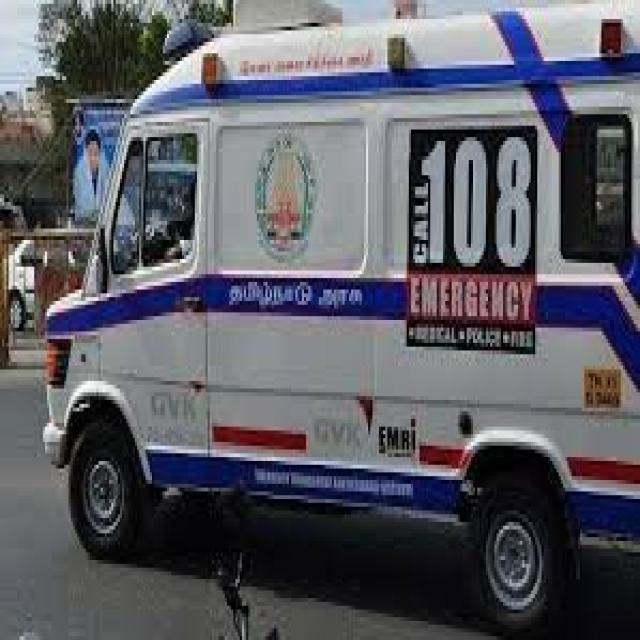Ambulance: (30, 0, 640, 636)
